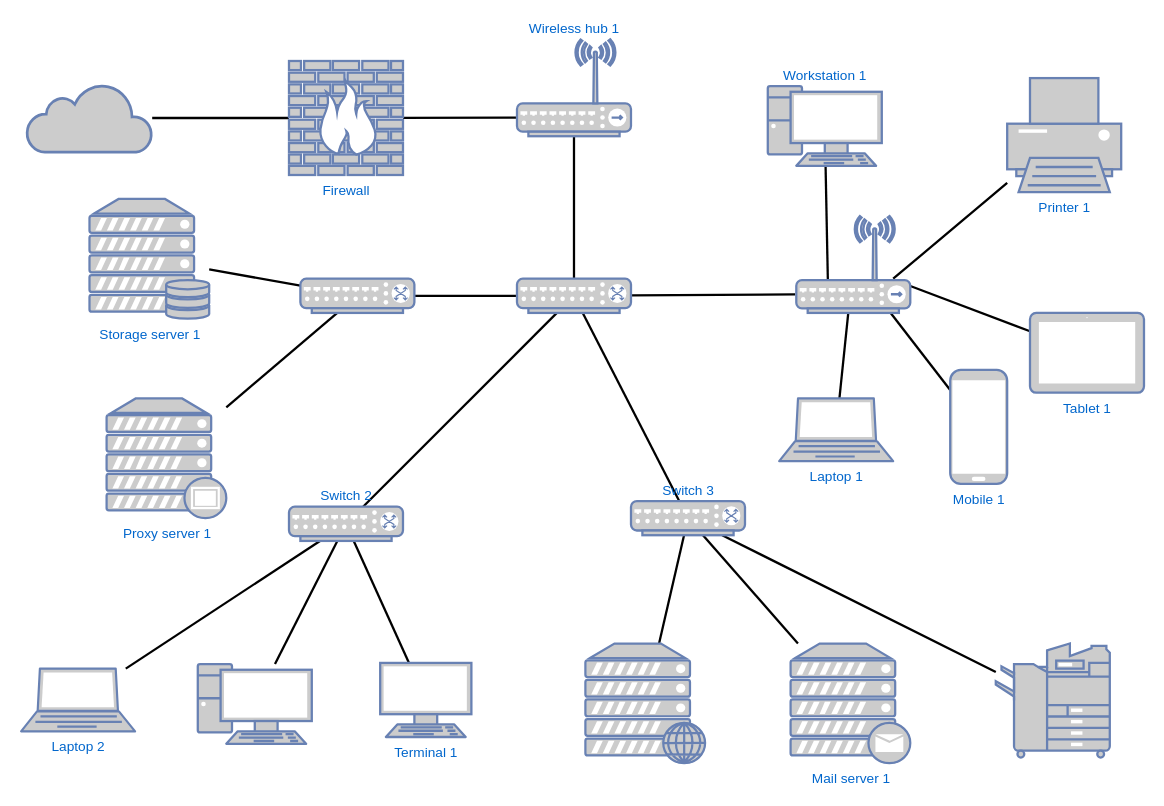
Image size: 1164x806. Some labels were removed from this diagram. Each missing label, with the centre of its shape:
"Internet" goes at point 89,117.
"Photocopier 1" goes at point 1052,700.
"Switch 1" goes at point 573,295.
"Switch 4" goes at point 357,295.
"Web server 1" goes at point 645,703.
"Wireless hub 2" goes at point 853,264.
"Workstation 2" goes at point 254,703.
